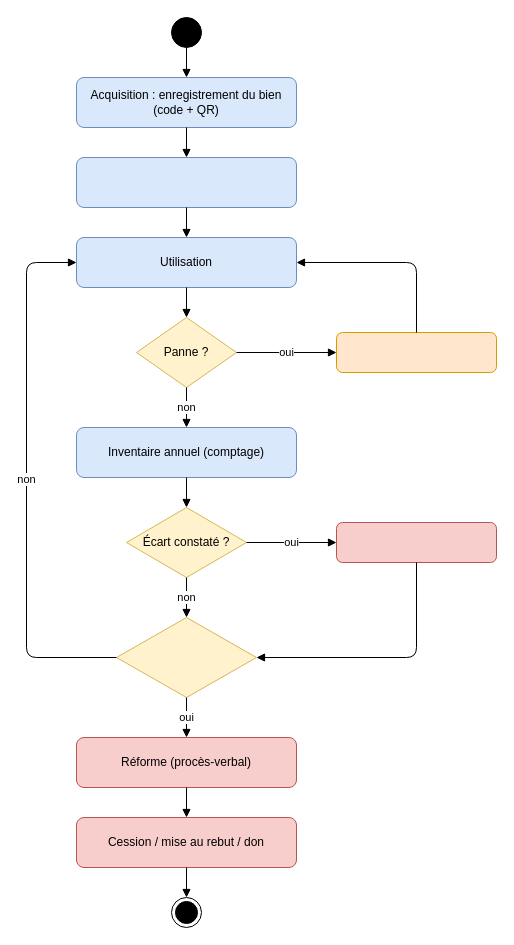
Image size: 514x945. Some labels were removed from this diagram. The centre of each missing label's shape, as x and y in pixels:
"Affectation à un service" goes at pixel 186 182.
"Maintenance (intervention)" goes at pixel 416 352.
"Obsolète / hors d'usage ?" goes at pixel 186 657.
"Régularisation de l'écart" goes at pixel 416 542.
